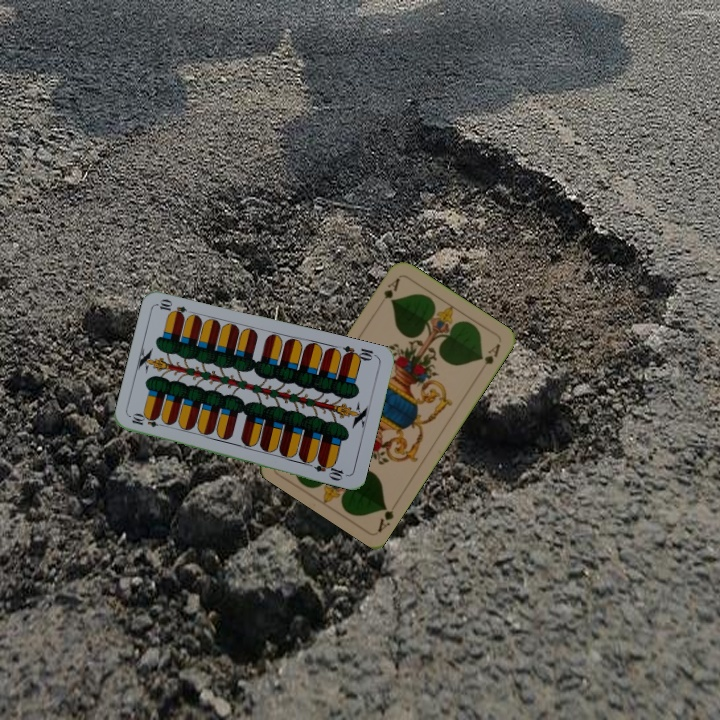E10: (339, 342, 379, 363), (128, 411, 168, 430)
GA: (375, 274, 403, 309), (374, 501, 396, 535)
